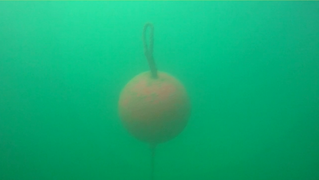buoy: (117, 70, 191, 145)
